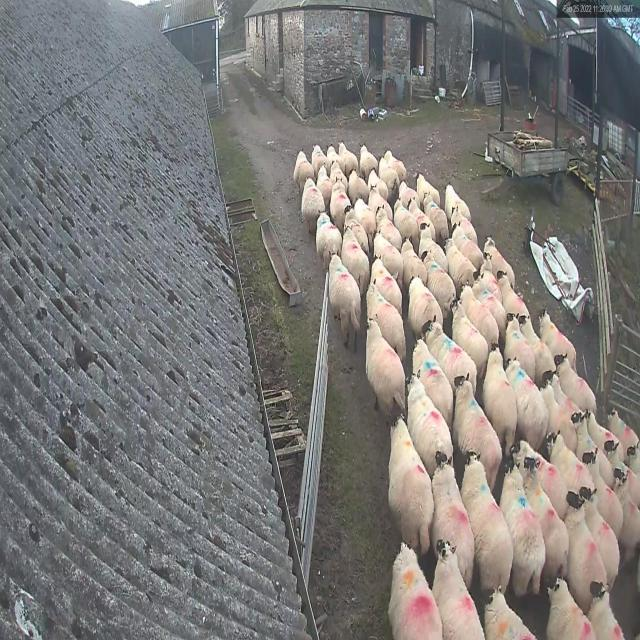Sheep: (462, 446, 513, 594), (386, 412, 433, 543), (503, 458, 546, 598), (453, 370, 503, 490), (524, 454, 568, 581), (433, 538, 485, 640), (390, 542, 442, 640), (432, 448, 472, 572), (511, 437, 568, 522), (405, 366, 452, 465), (420, 314, 477, 394), (578, 483, 620, 591), (565, 489, 604, 598), (365, 313, 406, 416), (505, 355, 548, 447), (482, 340, 516, 455), (583, 448, 623, 539), (412, 333, 452, 423), (328, 249, 361, 355), (366, 278, 406, 357), (571, 411, 613, 485), (451, 296, 488, 378), (547, 576, 593, 640), (612, 465, 640, 570), (482, 586, 537, 639), (554, 353, 598, 414), (547, 429, 593, 485), (460, 278, 499, 344), (421, 250, 456, 320), (538, 308, 579, 366), (588, 578, 625, 640), (517, 314, 556, 371), (473, 269, 506, 336), (584, 407, 624, 462), (504, 311, 536, 378), (410, 272, 442, 338), (342, 222, 370, 288), (372, 255, 402, 310), (442, 234, 476, 282), (372, 226, 403, 278), (485, 233, 514, 287), (316, 209, 342, 267), (452, 222, 483, 269), (610, 405, 640, 453), (401, 235, 427, 288), (302, 177, 325, 234), (423, 190, 448, 240), (420, 224, 447, 270), (344, 206, 368, 257), (407, 195, 435, 238), (394, 195, 419, 242), (330, 176, 352, 228), (376, 204, 400, 250), (480, 248, 500, 302), (444, 181, 471, 220), (295, 148, 315, 200), (413, 168, 440, 206), (452, 205, 479, 242), (383, 148, 409, 182), (355, 196, 377, 235), (379, 154, 400, 193), (318, 162, 332, 214), (311, 144, 331, 180), (361, 141, 378, 183), (398, 177, 421, 208), (366, 166, 388, 198), (338, 140, 358, 173), (349, 168, 368, 202), (326, 142, 344, 175), (329, 158, 348, 189), (627, 445, 640, 472)
